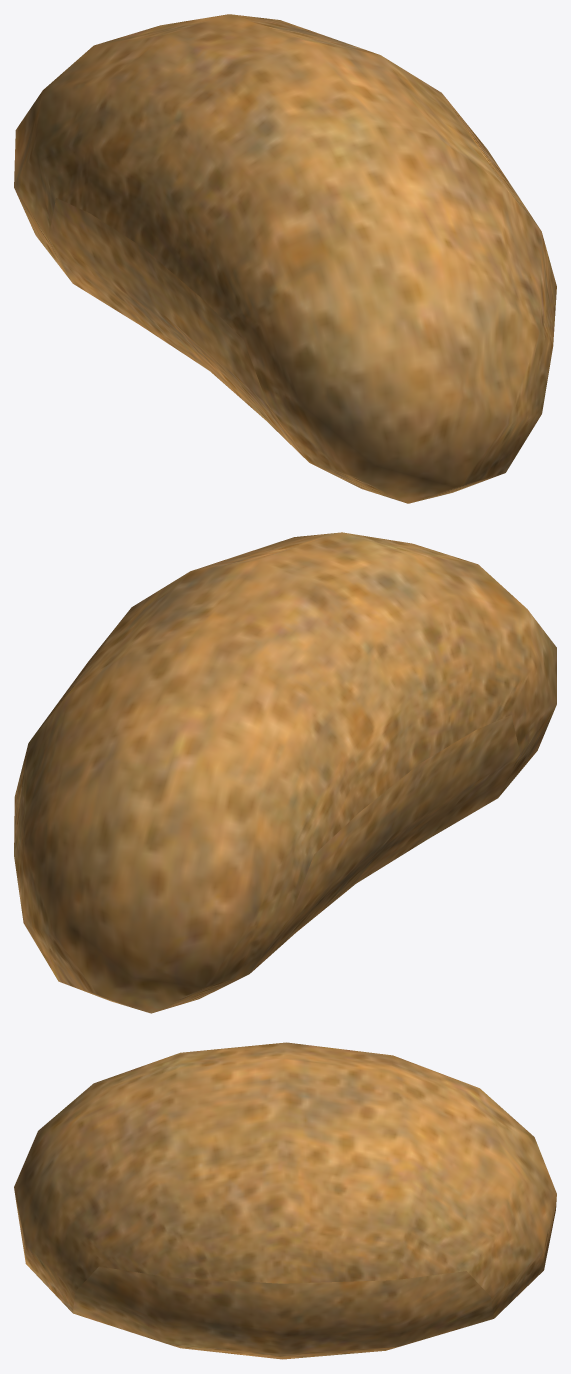
File: Pattate_Munitions.obj
3 renders of one model, top to bottom at view 1: azimuth 30°, elevation 25°; view 2: azimuth 150°, elevation 25°; view 3: azimuth 270°, elevation 25°, orthographic. The views are drawn at different scales.
Parts seen in each view (by area): view 1: projectile_pattate; view 2: projectile_pattate; view 3: projectile_pattate.
Boxes of the visible parts, x1,y1,x2,y2 form: projectile_pattate: (14, 14, 556, 503); projectile_pattate: (14, 532, 556, 1013); projectile_pattate: (14, 1042, 556, 1359).
Size of the model in its own units: 11.23 by 11.32 by 20.36.
Materials: 1 (1 with a texture image).
